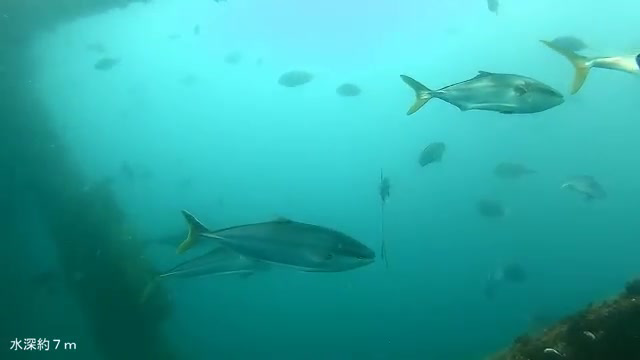hamati: (175, 205, 381, 286), (394, 66, 575, 122)
smallfish: (416, 137, 467, 185), (278, 67, 317, 96)
